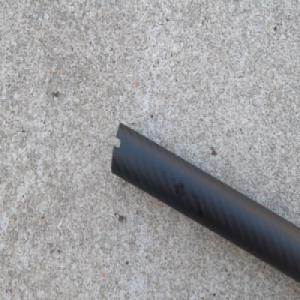LuggagePart: (109, 121, 300, 287)
